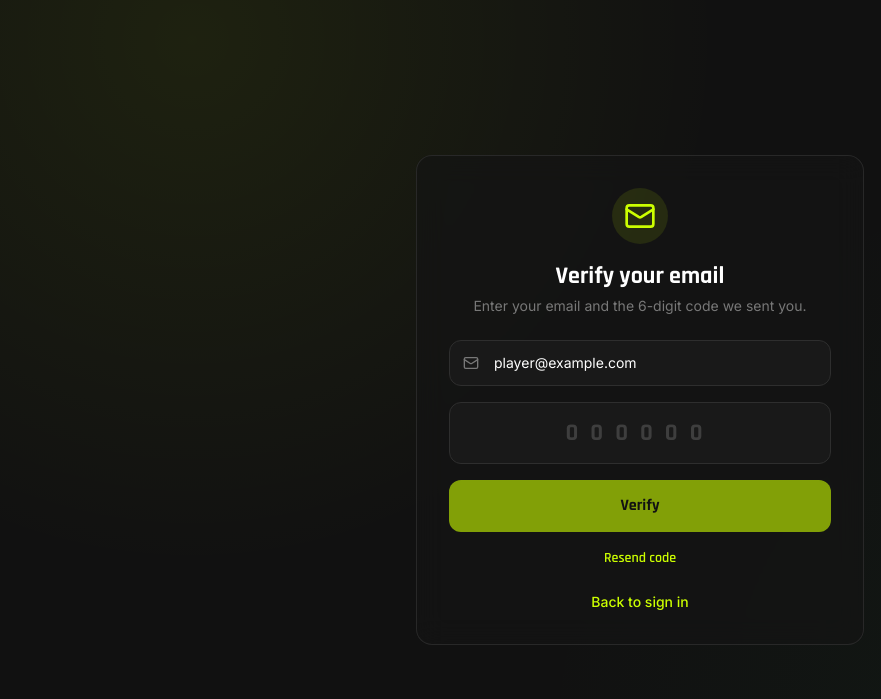
VerifyEmail resend › shows the success message when the resend request succeeds
Click the button "Resend code". click: coordinates (640, 558)
box: [449,548,831,568]
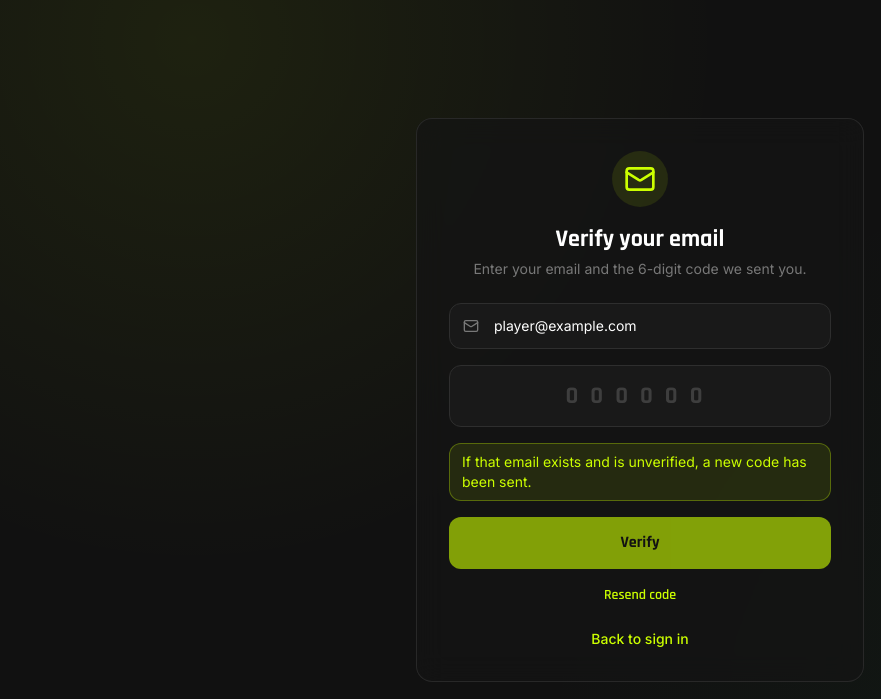
Expected: the text "a new code has been sent" is shown, [462,453,807,490]
